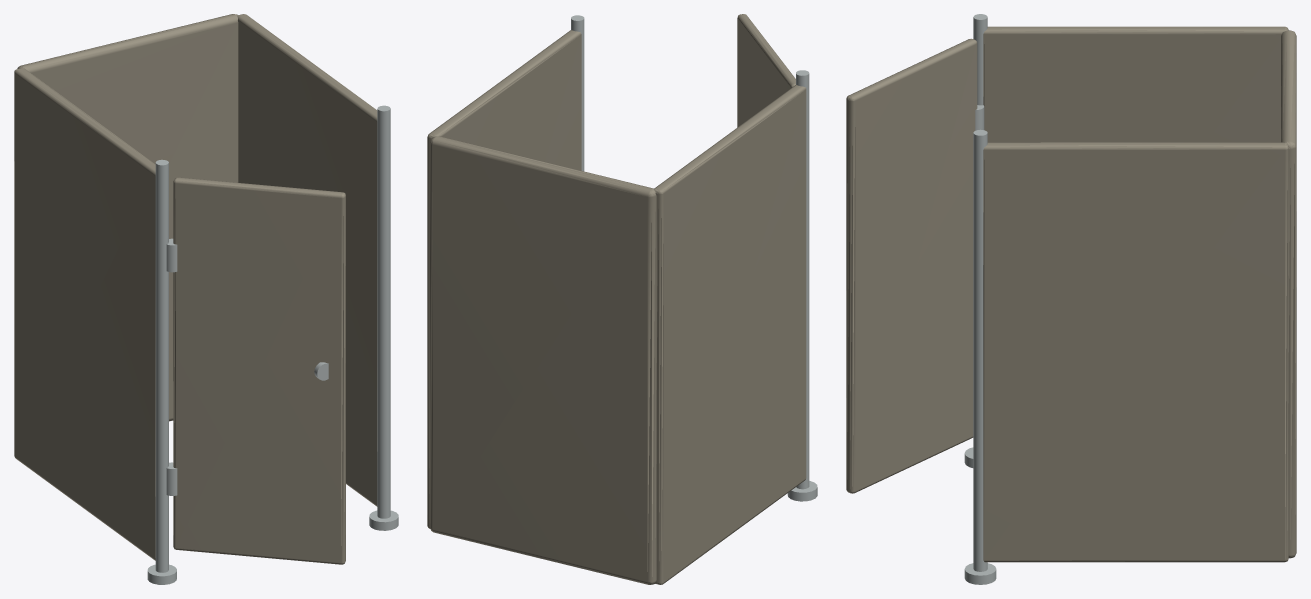
Rendered from 13_starter_cubicle.glb.
3 renders of one model, left to right at view 1: azimuth 30°, elevation 25°; view 2: azimuth 150°, elevation 25°; view 3: azimuth 270°, elevation 25°, orthographic. The views are drawn at different scales.
Parts seen in each view (by area): view 1: 13_starter_cubicle__Static, 13_starter_cubicle__door_moving; view 2: 13_starter_cubicle__Static, 13_starter_cubicle__door_moving; view 3: 13_starter_cubicle__Static, 13_starter_cubicle__door_moving.
Boxes of the visible parts, x1,y1,x2,y2 form: 13_starter_cubicle__Static: [14, 14, 398, 584]; 13_starter_cubicle__door_moving: [173, 177, 345, 564]; 13_starter_cubicle__Static: [427, 15, 817, 584]; 13_starter_cubicle__door_moving: [737, 14, 795, 127]; 13_starter_cubicle__Static: [964, 14, 1296, 584]; 13_starter_cubicle__door_moving: [846, 38, 977, 493].
Bounding box in the file's own units: 1.25 × 2.01 × 1.84.
